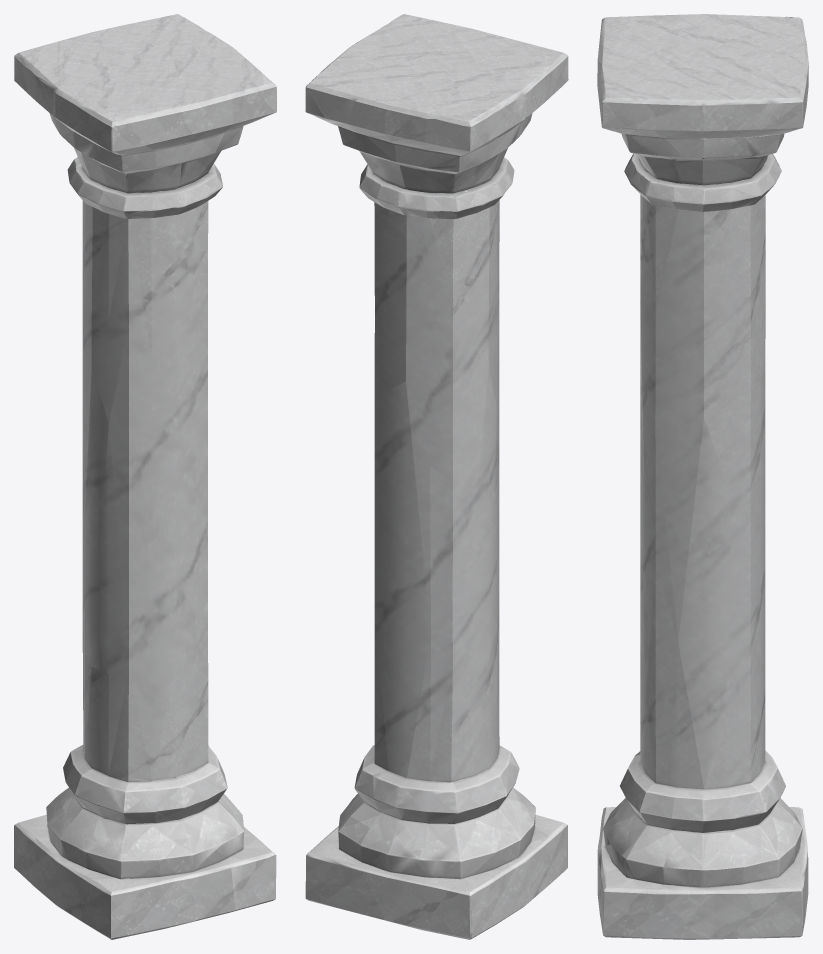
The model's file is court-pillar.glb.
The picture shows the model from 3 angles, left to right: view 1: azimuth 30°, elevation 25°; view 2: azimuth 150°, elevation 25°; view 3: azimuth 270°, elevation 25°; orthographic projection. The views are drawn at different scales.
Visible parts, largest first — view 1: output_unwrapped; view 2: output_unwrapped; view 3: output_unwrapped.
Part boxes in pixels (x1,y1,x2,y2): output_unwrapped: [14, 14, 276, 939]; output_unwrapped: [305, 14, 568, 939]; output_unwrapped: [597, 14, 808, 939].
Bounding box in the file's own units: 0.4362 × 1.9 × 0.4337.
Materials: 1 (1 with a texture image).
